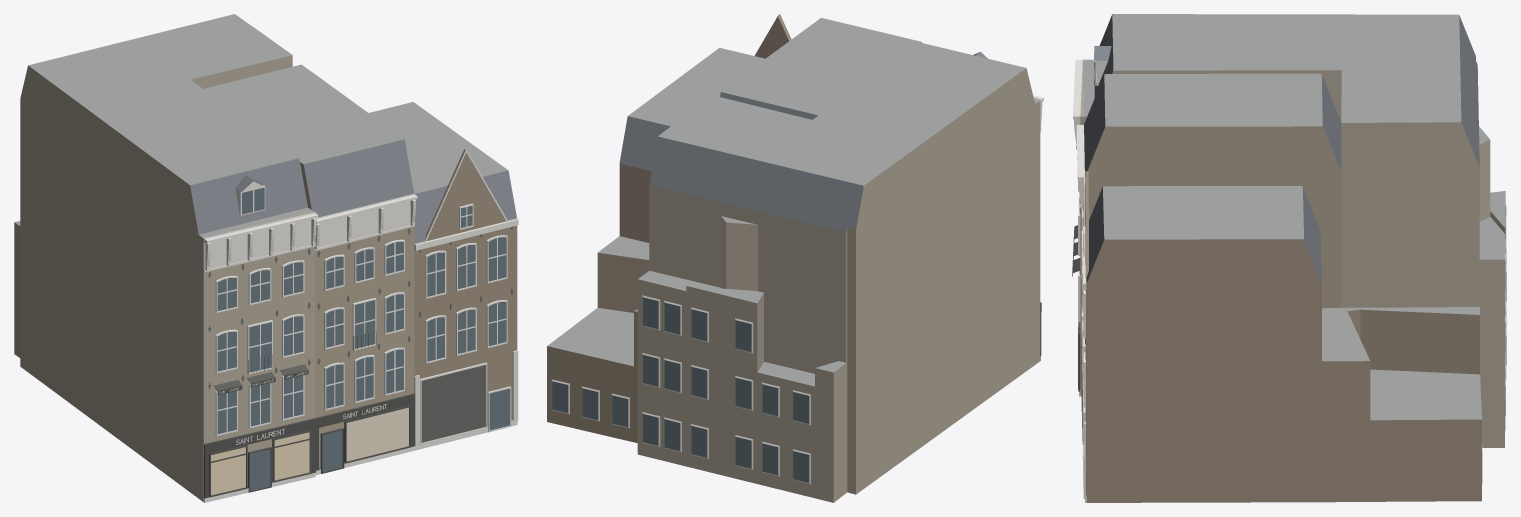
Rendered from chunk-face-hooft-101-105.glb.
The picture shows the model from 3 angles, left to right: view 1: azimuth 30°, elevation 25°; view 2: azimuth 150°, elevation 25°; view 3: azimuth 270°, elevation 25°; orthographic projection. The views are drawn at different scales.
Parts seen in each view (by area): view 1: face-hooft-101-105; view 2: face-hooft-101-105; view 3: face-hooft-101-105.
Boxes of the visible parts, left/top/right/bottom form: face-hooft-101-105: left=14, top=14, right=518, bottom=502; face-hooft-101-105: left=547, top=14, right=1043, bottom=502; face-hooft-101-105: left=1072, top=14, right=1506, bottom=502.
Size of the model in its own units: 20.76 by 19.33 by 23.36.
